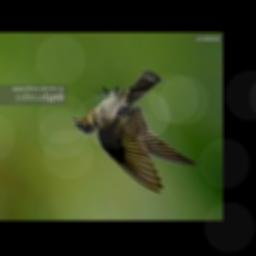Swallow: (71, 71, 197, 193)
